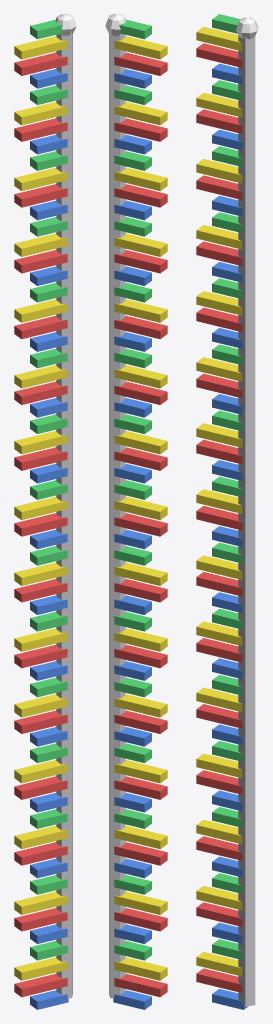
The model's file is DNA_StrandB_Straight.fbx.
The picture shows the model from 3 angles, left to right: view 1: azimuth 30°, elevation 25°; view 2: azimuth 150°, elevation 25°; view 3: azimuth 330°, elevation 25°; orthographic projection.
Visible parts, largest first — view 1: DNA_StrandB_Straight; view 2: DNA_StrandB_Straight; view 3: DNA_StrandB_Straight.
Boxes of the visible parts, <box> form: DNA_StrandB_Straight: <box>14,14,76,1009</box>; DNA_StrandB_Straight: <box>105,14,167,1009</box>; DNA_StrandB_Straight: <box>196,14,258,1009</box>.
Size of the model in its own units: 0.0365 by 0.599 by 0.013.
